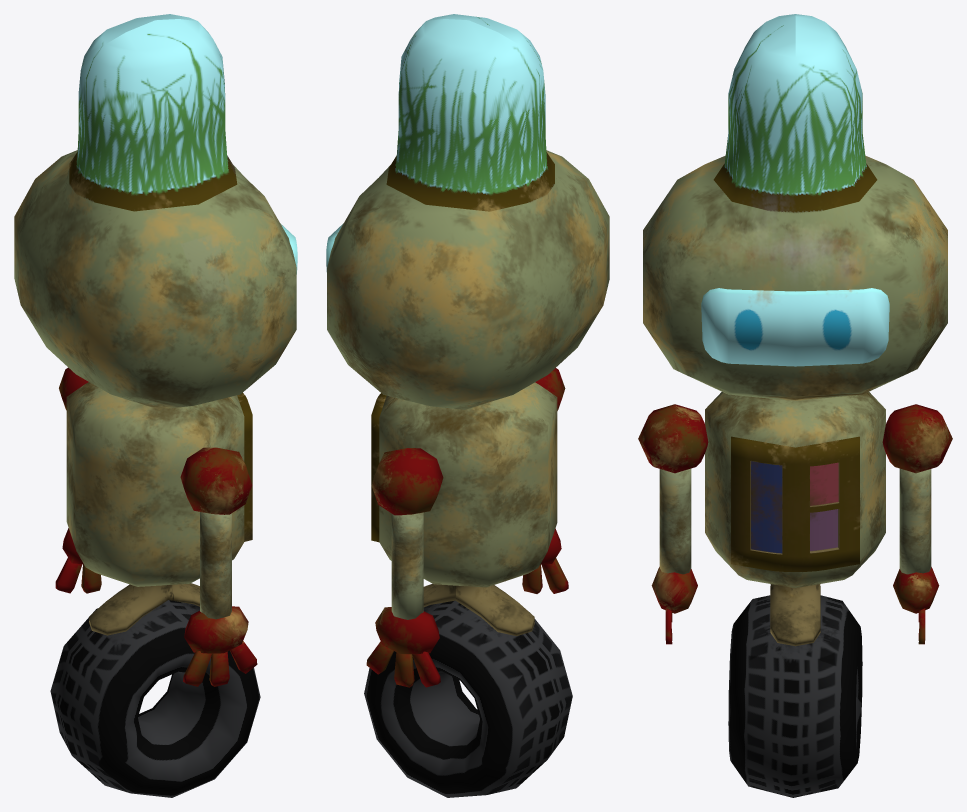
File: pongo.glb
3 views of the same model, side by side, from view 1: azimuth 30°, elevation 25°; view 2: azimuth 150°, elevation 25°; view 3: azimuth 270°, elevation 25° (orthographic).
Parts seen in each view (by area): view 1: head, body, wheel, arms, panel; view 2: head, body, wheel, arms, panel; view 3: head, wheel, body, arms, panel.
Boxes of the visible parts, x1,y1,x2,y2 form: head: [14, 14, 297, 409]; body: [66, 382, 244, 635]; wheel: [50, 600, 260, 797]; arms: [55, 367, 257, 686]; panel: [237, 392, 252, 541]; head: [326, 14, 609, 409]; body: [379, 382, 557, 636]; wheel: [364, 600, 572, 797]; arms: [366, 368, 568, 687]; panel: [371, 393, 386, 542]; head: [643, 14, 947, 400]; wheel: [728, 595, 862, 797]; body: [705, 392, 885, 646]; arms: [638, 404, 952, 644]; panel: [731, 436, 859, 571].
Size of the model in its own units: 3.56 by 12.03 by 4.5.
Materials: 1 (1 with a texture image).
